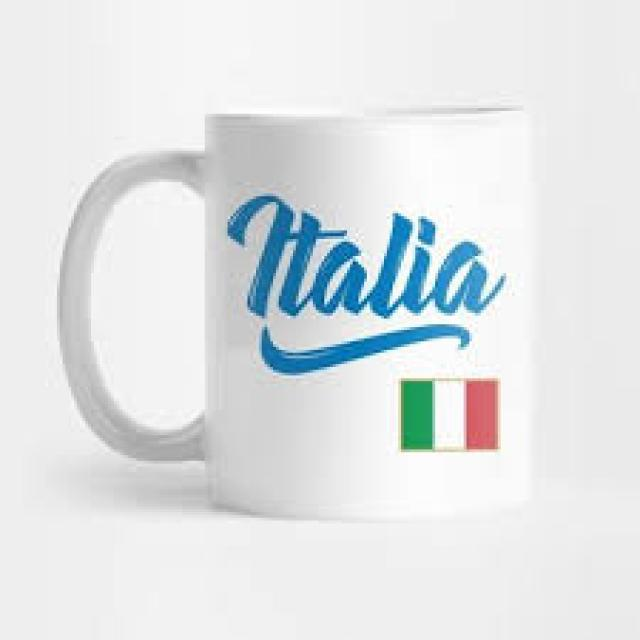taza: (56, 106, 532, 528)
